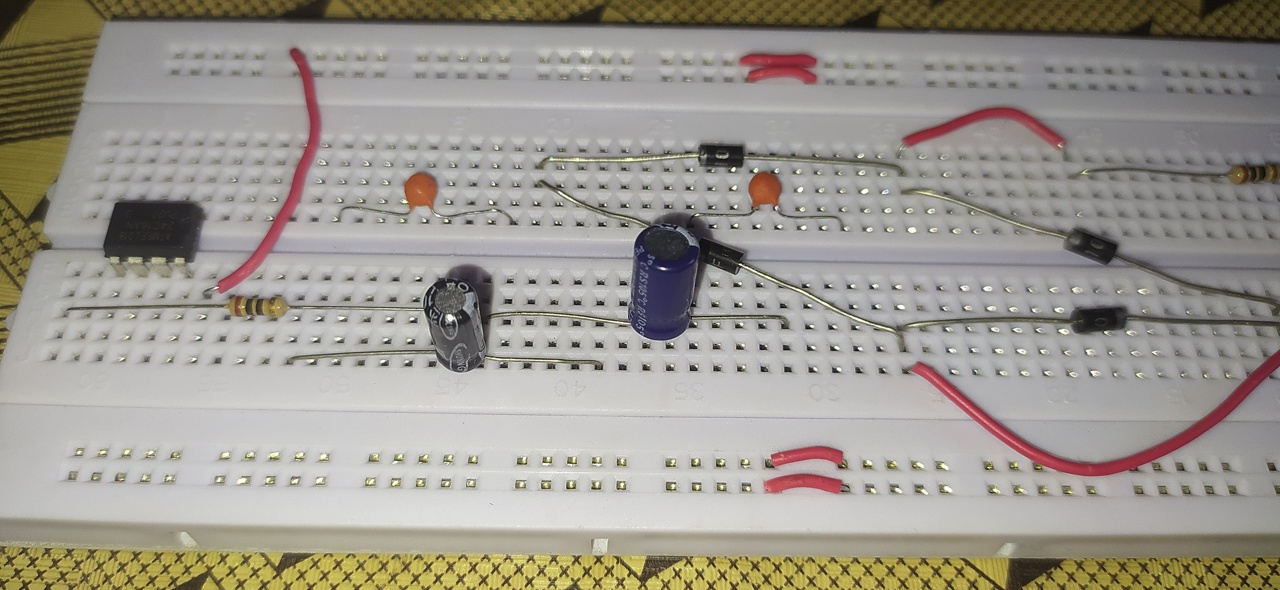capacitor: (625, 222, 701, 340), (420, 278, 496, 372), (402, 170, 438, 215), (746, 173, 784, 210)
resistor: (226, 294, 290, 316), (1225, 161, 1280, 186)
